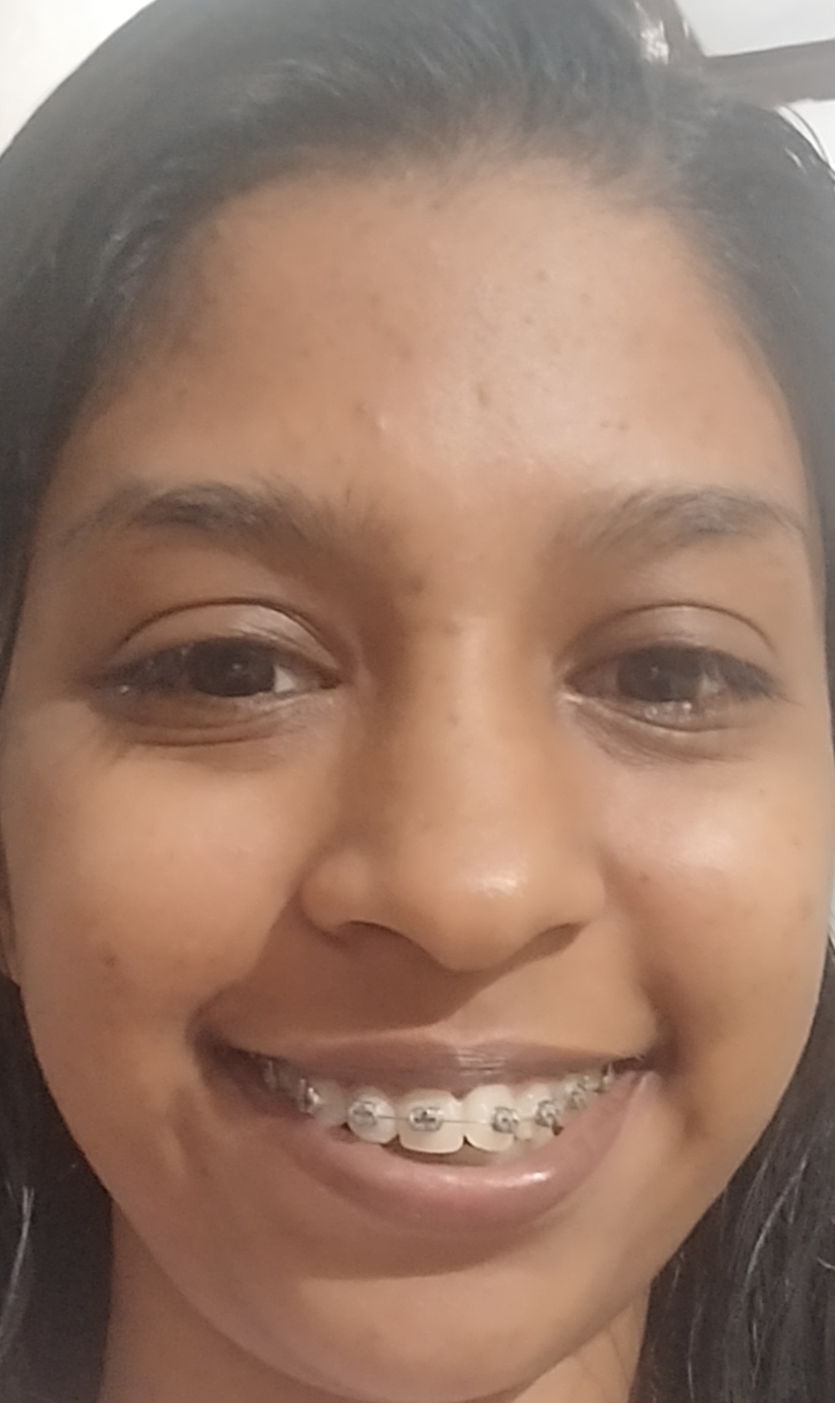closed_comedone: (350, 384, 408, 458), (459, 368, 519, 426), (529, 248, 568, 308)
